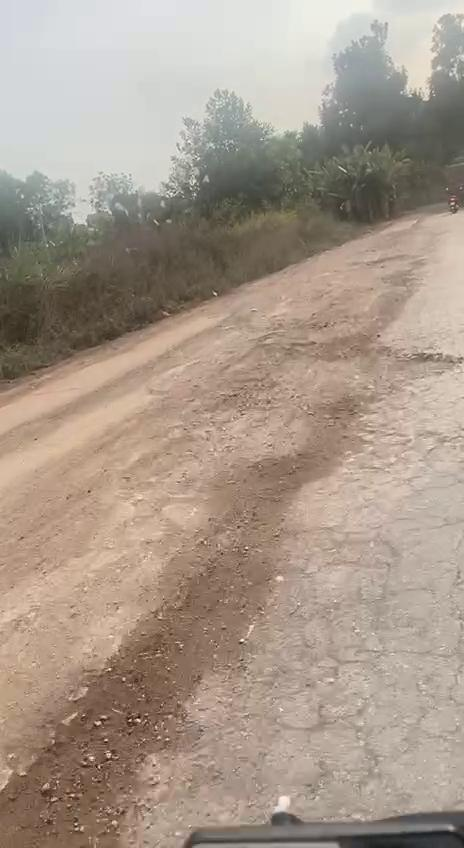pothole: (0, 575, 287, 848), (249, 441, 340, 501), (374, 346, 464, 386)
